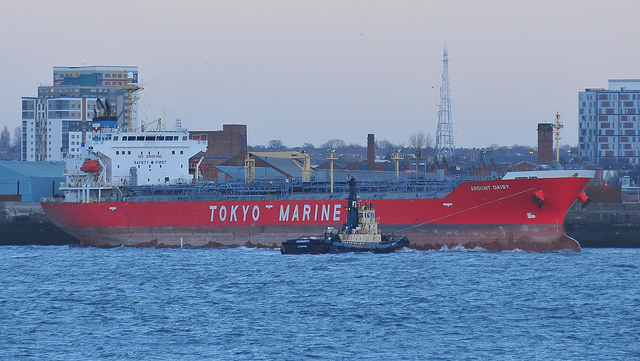tanker: (41, 105, 590, 255)
tug_boat: (283, 178, 407, 254)
